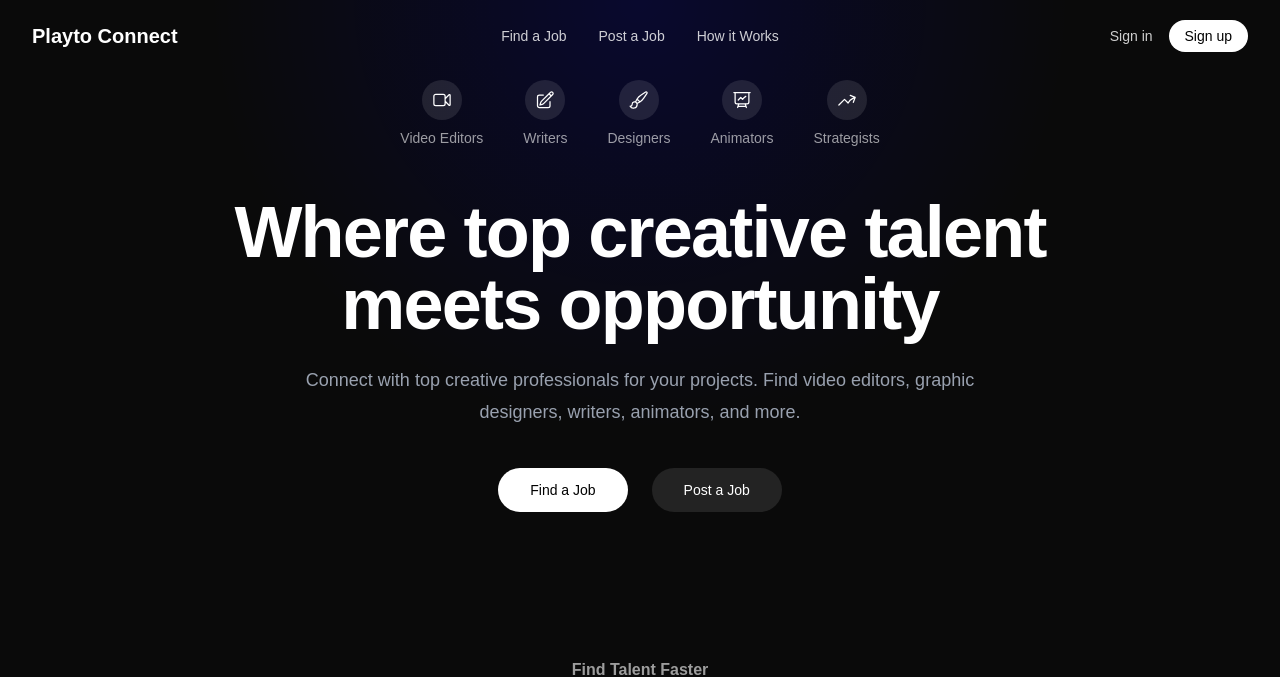
Test: Authentication Flow › should navigate to sign up page
This screenshot has width=1280, height=677.
// Find and click sign up link
Click the link "Sign up": click(1209, 36) [1169,20,1249,52]
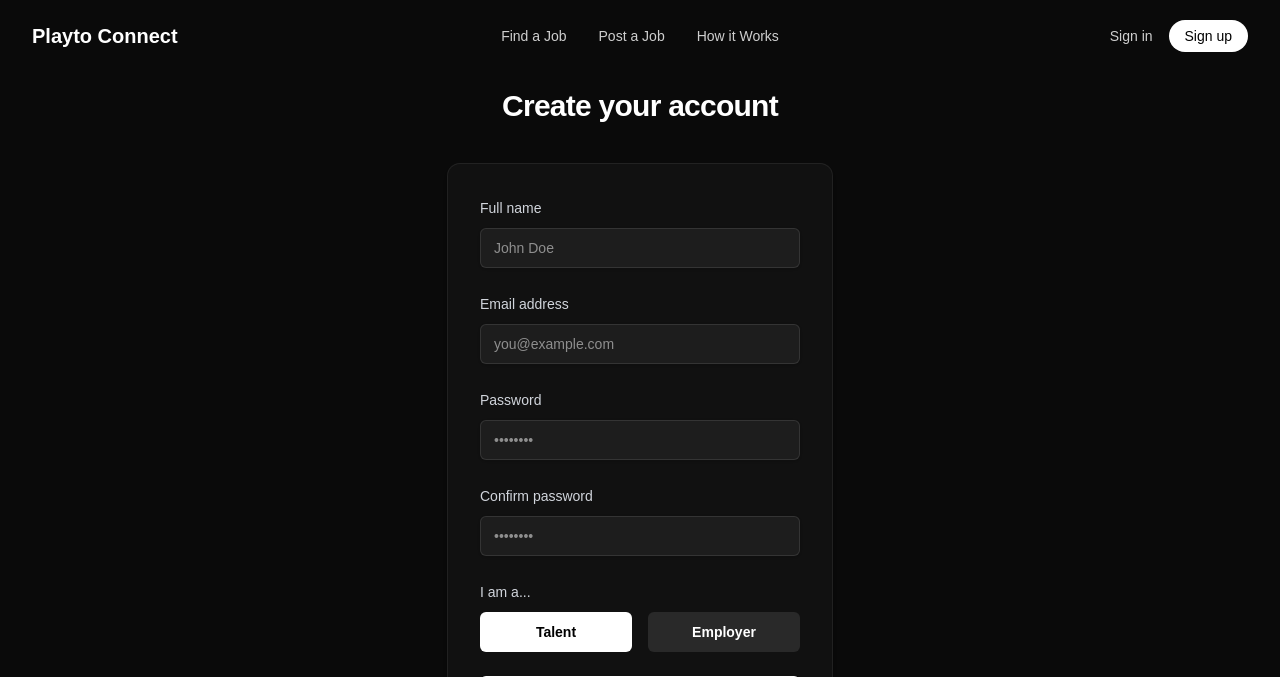
Expected: the field named "name" is shown, [480,228,800,268]
Expected: the field named "email" is shown, [480,324,800,364]
Expected: the password field named "password" is shown, [480,420,800,460]
